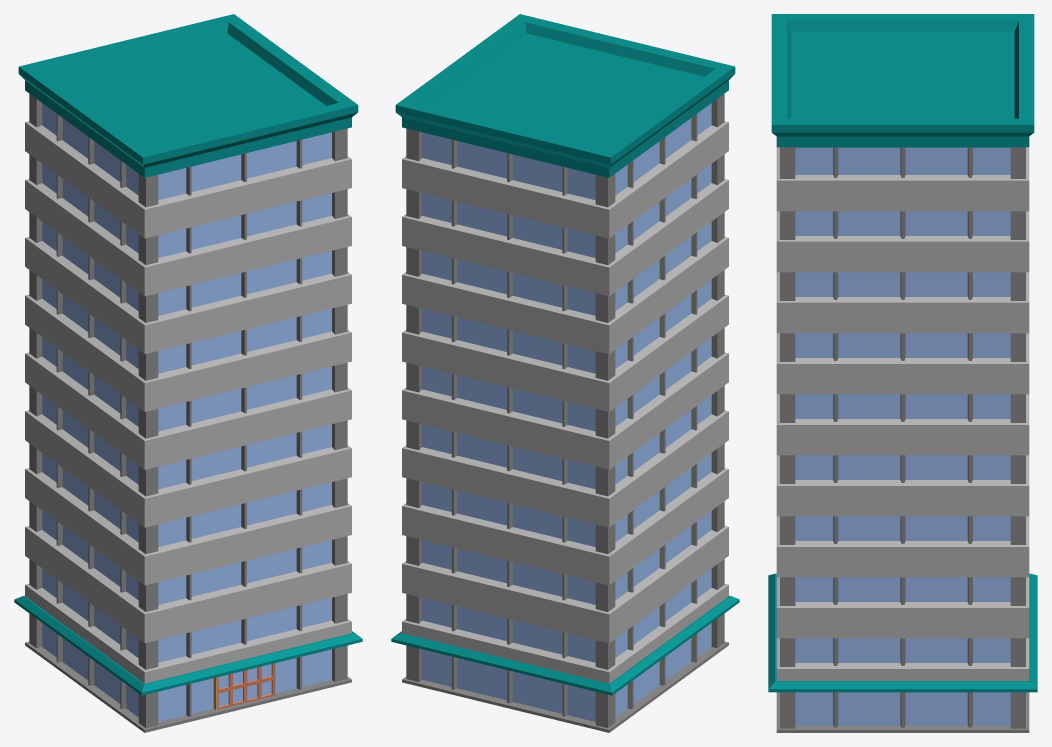
File: Office_10_story.fbx
3 renders of one model, left to right at view 1: azimuth 30°, elevation 25°; view 2: azimuth 150°, elevation 25°; view 3: azimuth 270°, elevation 25°, orthographic. The views are drawn at different scales.
Parts seen in each view (by area): view 1: mesh_office_10_story; view 2: mesh_office_10_story; view 3: mesh_office_10_story.
Part boxes in pixels (box(x1,y1,x2,y2)): mesh_office_10_story: box(14, 14, 362, 732); mesh_office_10_story: box(391, 14, 739, 732); mesh_office_10_story: box(768, 14, 1037, 732).
Bounding box in the file's own units: 8 × 20 × 8.
